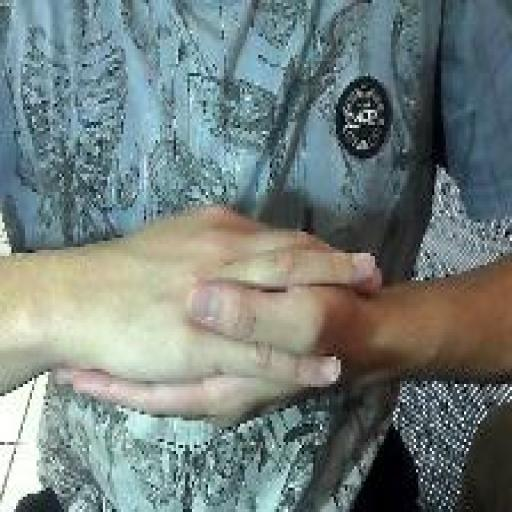Saru -monkey-: (50, 195, 384, 436)
